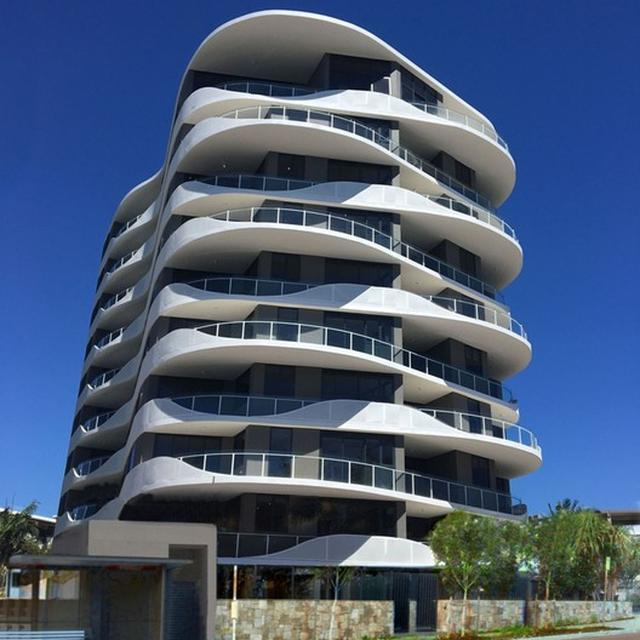building: (86, 13, 533, 596)
